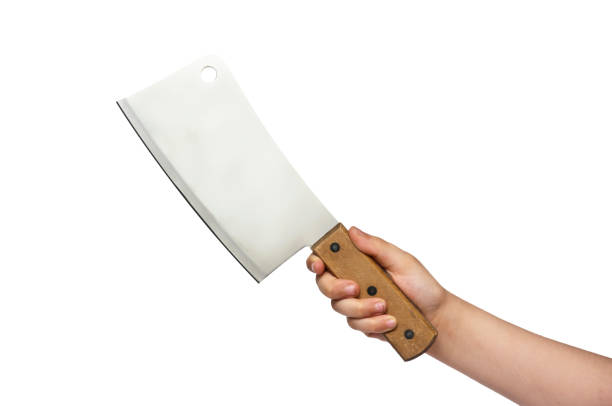knife: (116, 51, 438, 364)
